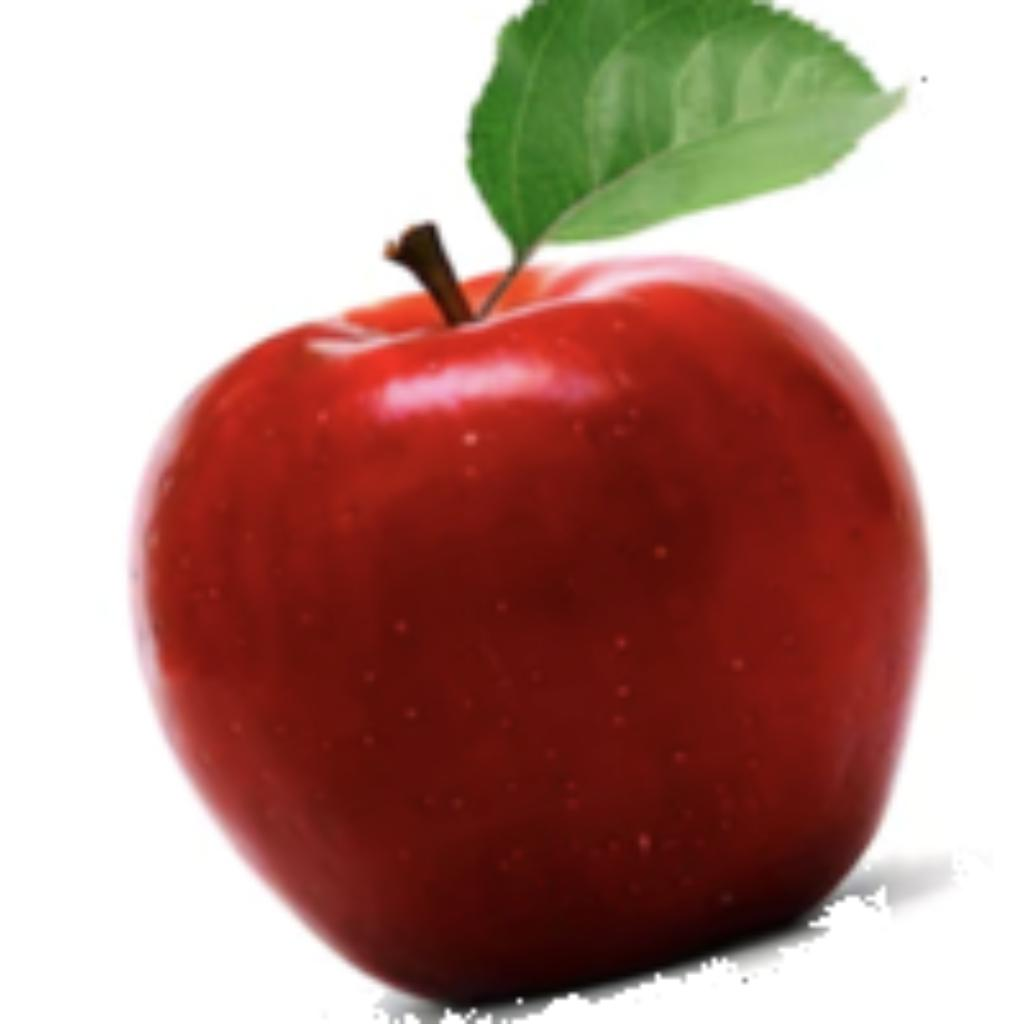apple: (118, 0, 968, 1019)
